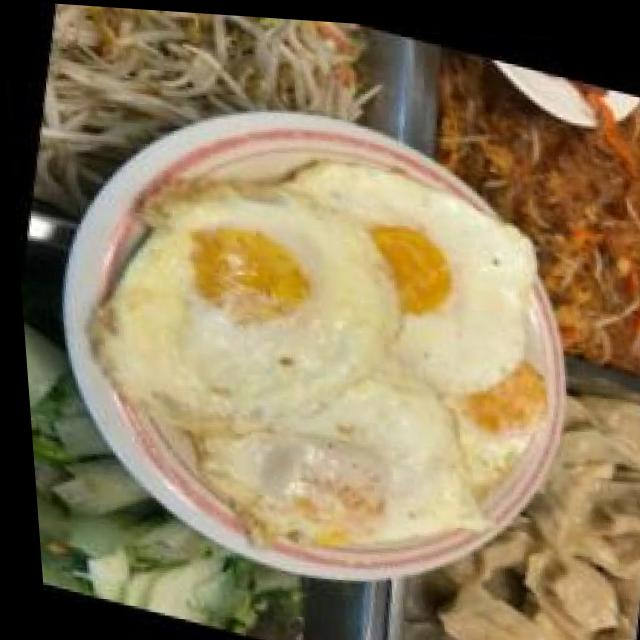fried_dumplings: (355, 24, 640, 181)
fried_eggs: (105, 88, 608, 633)
mung_bean_sprouts: (16, 270, 143, 599)
